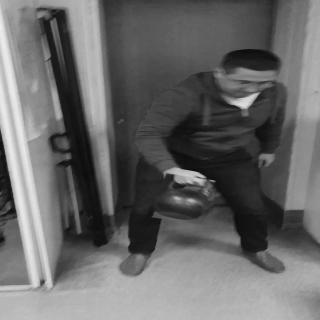kettlebell: (151, 176, 219, 224)
